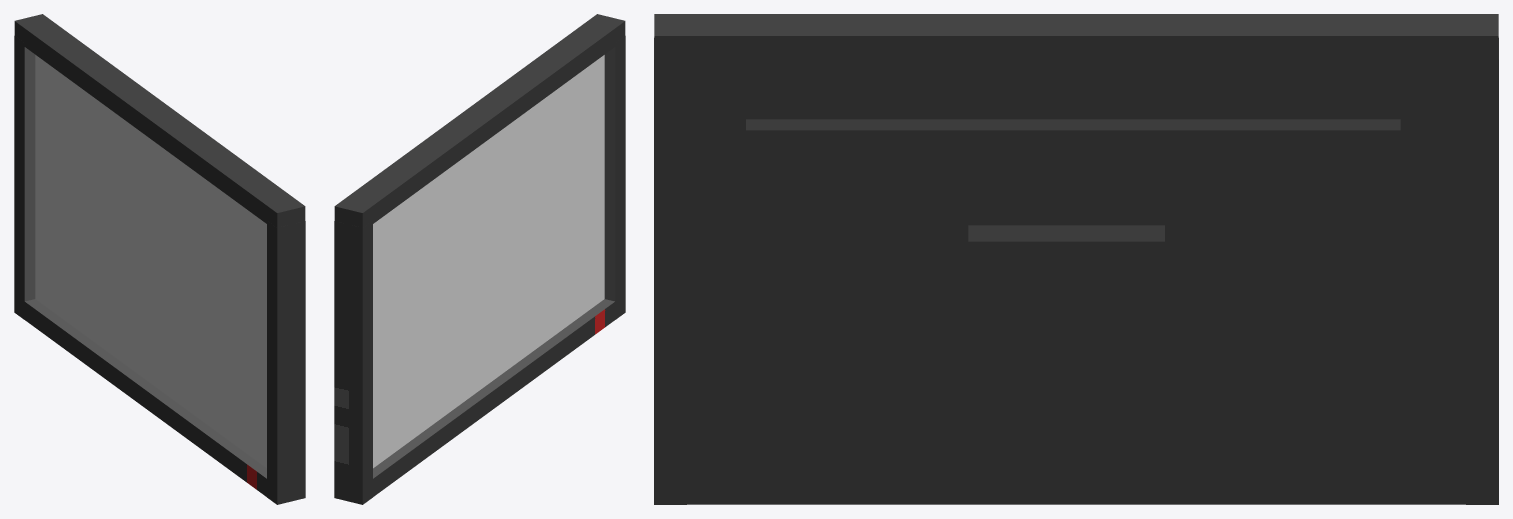
The picture shows the model from 3 angles, left to right: view 1: azimuth 30°, elevation 25°; view 2: azimuth 150°, elevation 25°; view 3: azimuth 270°, elevation 25°; orthographic projection. The views are drawn at different scales.
Visible parts, largest first — view 1: cube (×5); view 2: cube (×5); view 3: cube (×7).
Part boxes in pixels (x1,y1,x2,y2): cube (×5): [14, 14, 305, 504]; cube (×5): [334, 14, 625, 504]; cube (×7): [654, 14, 1498, 504].
Bounding box in the file's own units: 0.0563 × 0.2469 × 0.4032.
1 material, 1 textured.
